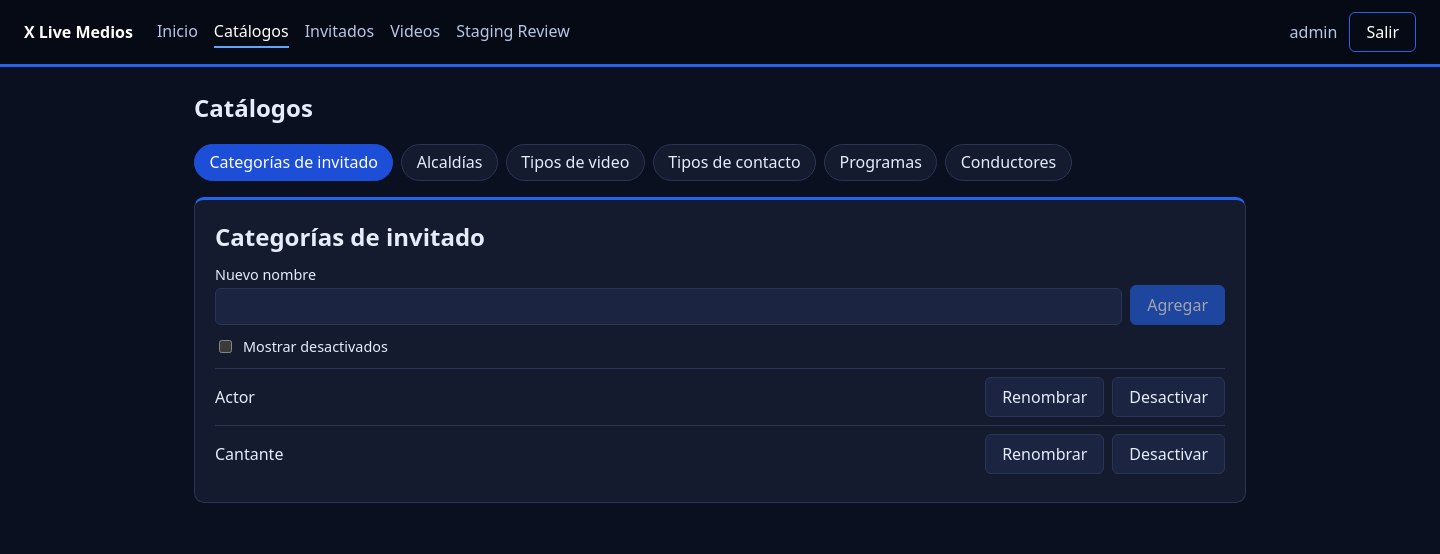
Scenario: Catálogos › renombrar a un nombre repetido muestra el error y mantiene la edición
Expected: the text "Cantante" is shown, [215,443,283,465]
Click the button with aria-label "Renombrar Cantante" at (1045,454), box [985,434,1104,474]
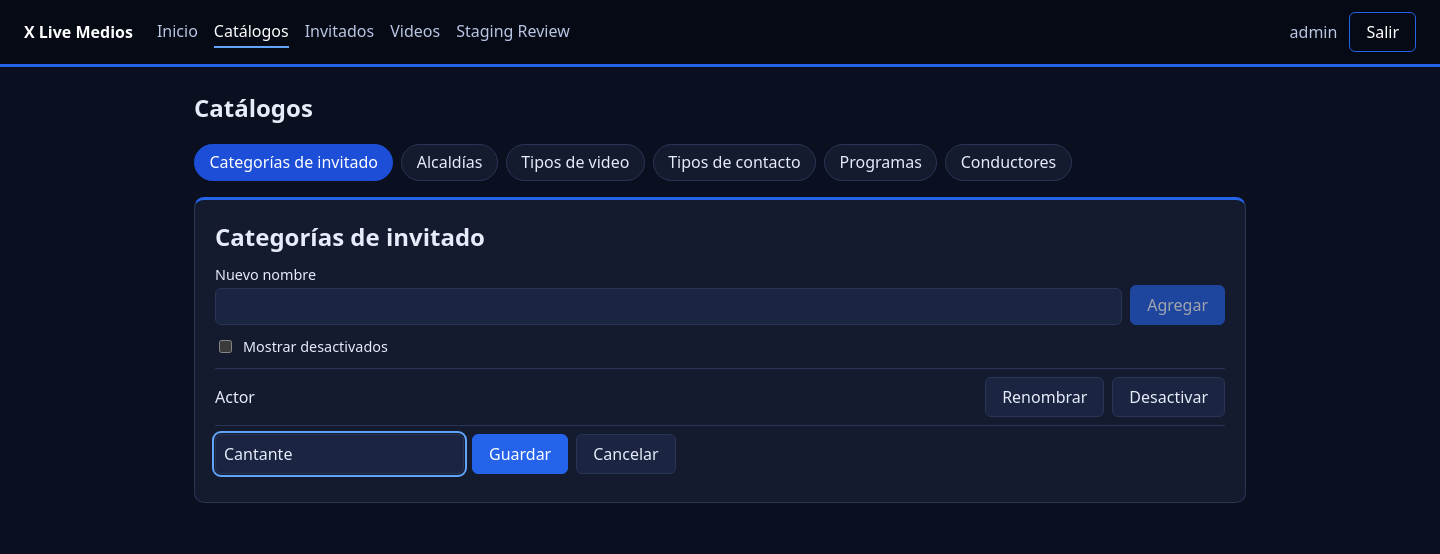
Replace the text in the field named "Nuevo nombre para Cantante" with "ACTOR" at (340,454), box [215,434,464,474]
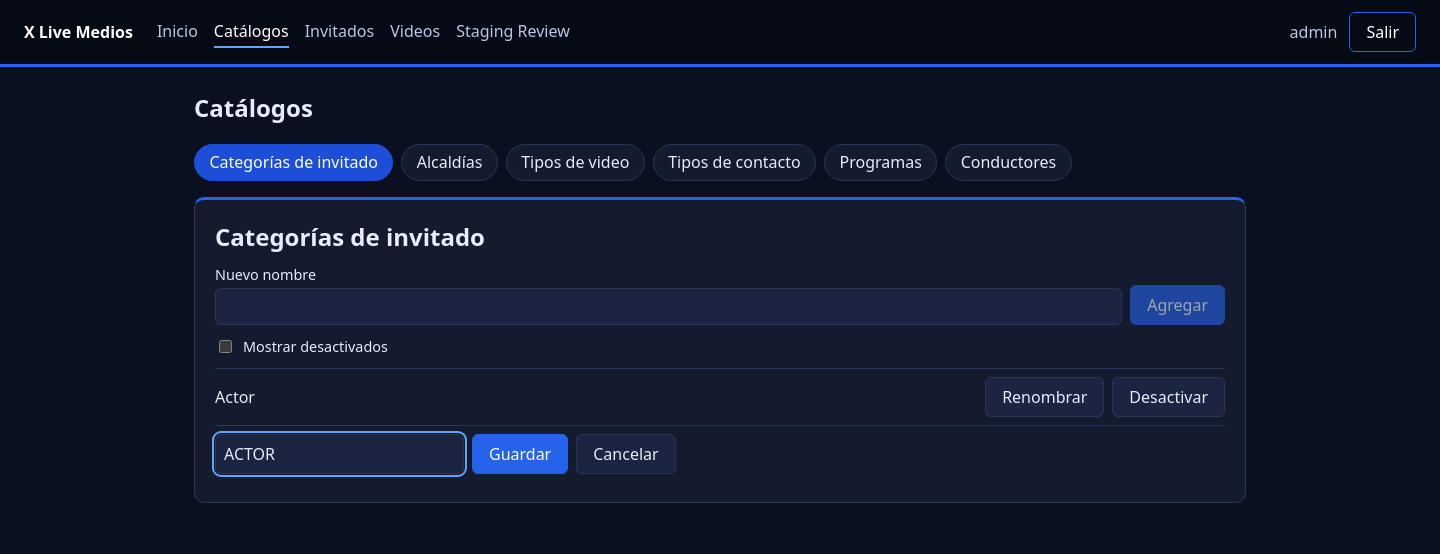
Click the button "Guardar" at (520,454), box [472,434,568,474]
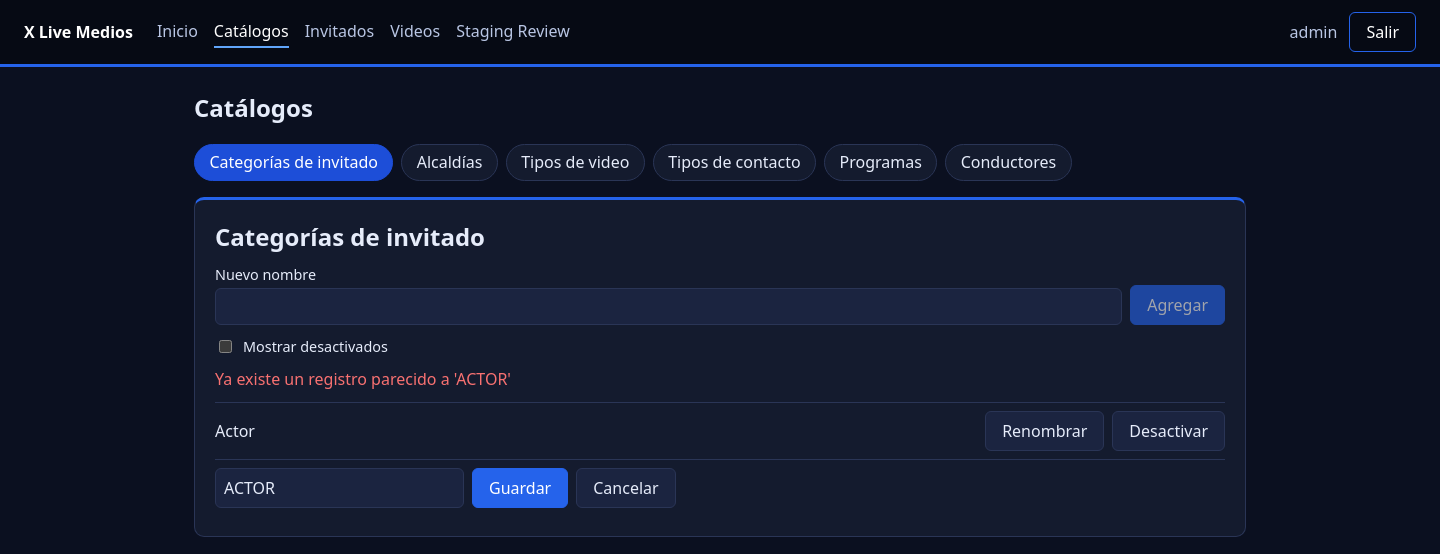
Now the message shows "Ya existe un registro parecido", box [215,368,511,390]
